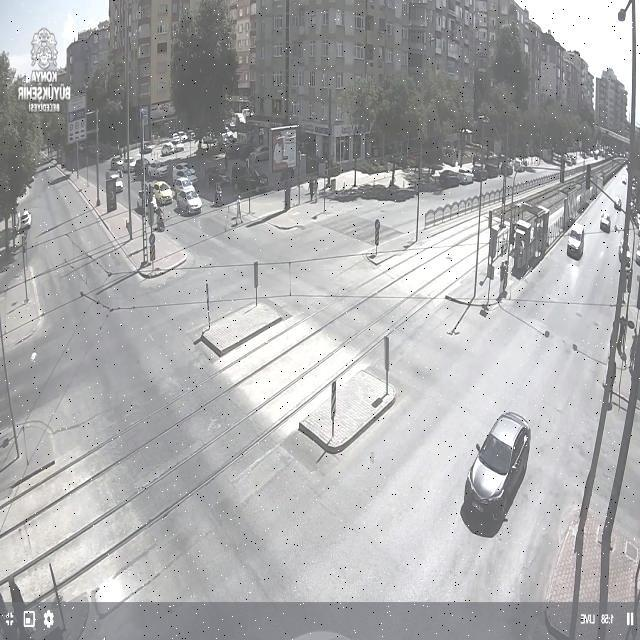Car: (461, 415, 522, 525), (175, 188, 202, 216), (566, 224, 585, 258), (153, 181, 175, 205), (172, 164, 197, 184), (137, 189, 158, 211), (619, 240, 633, 266), (600, 212, 611, 232)
